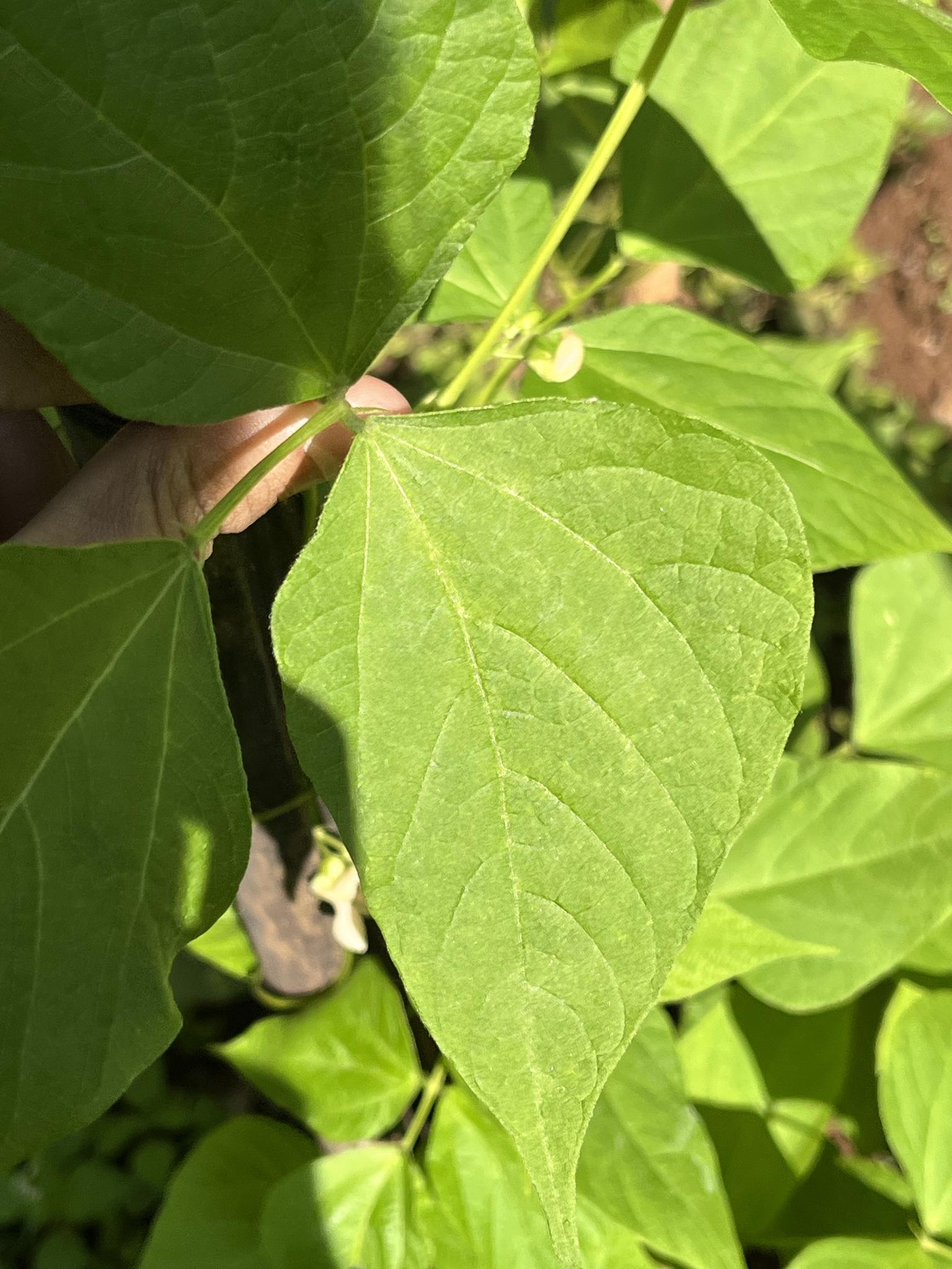sehat: (278, 394, 822, 1269)
